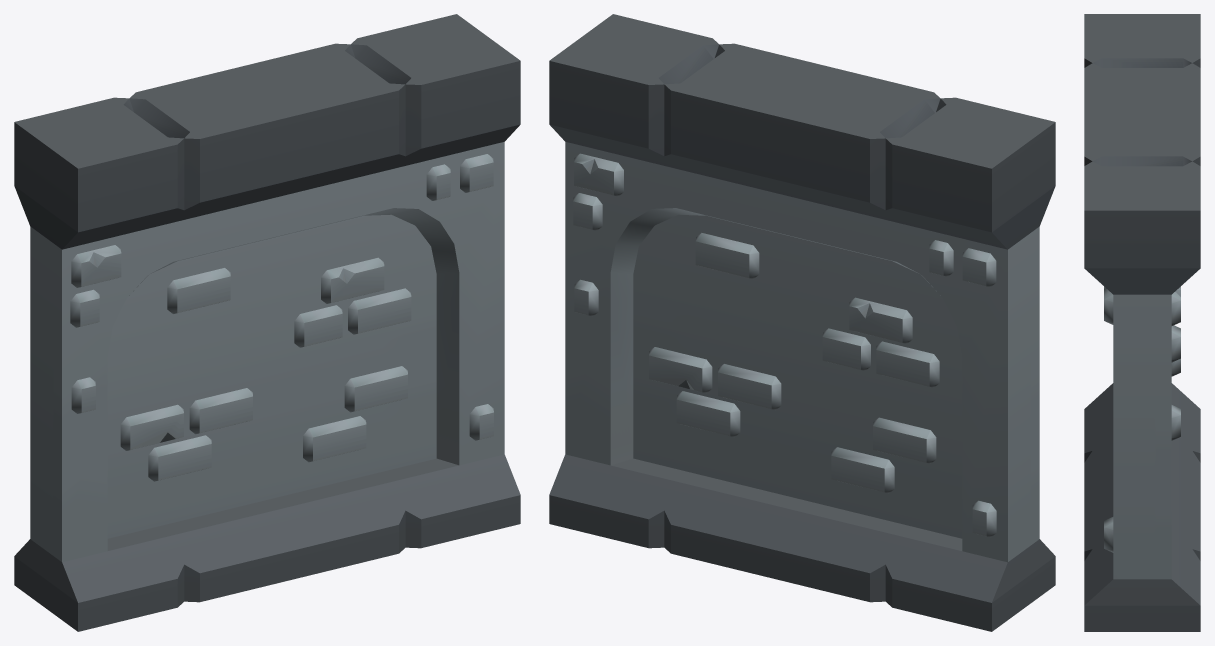
The model's file is wall_arched.glb.
3 views of the same model, side by side, from view 1: azimuth 30°, elevation 25°; view 2: azimuth 150°, elevation 25°; view 3: azimuth 270°, elevation 25° (orthographic). The views are drawn at different scales.
Visible parts, largest first — view 1: wall_arched; view 2: wall_arched; view 3: wall_arched.
Part boxes in pixels (x1,y1,x2,y2): wall_arched: [14, 14, 520, 631]; wall_arched: [549, 14, 1055, 631]; wall_arched: [1084, 14, 1200, 631].
Bounding box in the file's own units: 4 × 4 × 1.
Materials: 1 (1 with a texture image).
